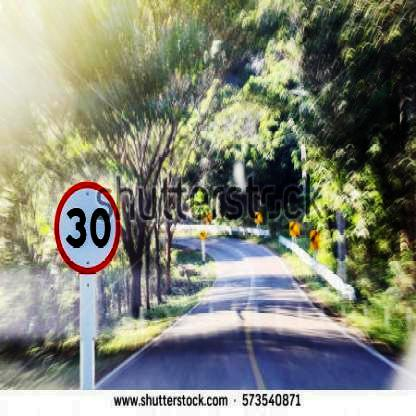Speed Limit -30-: (51, 178, 125, 278)
